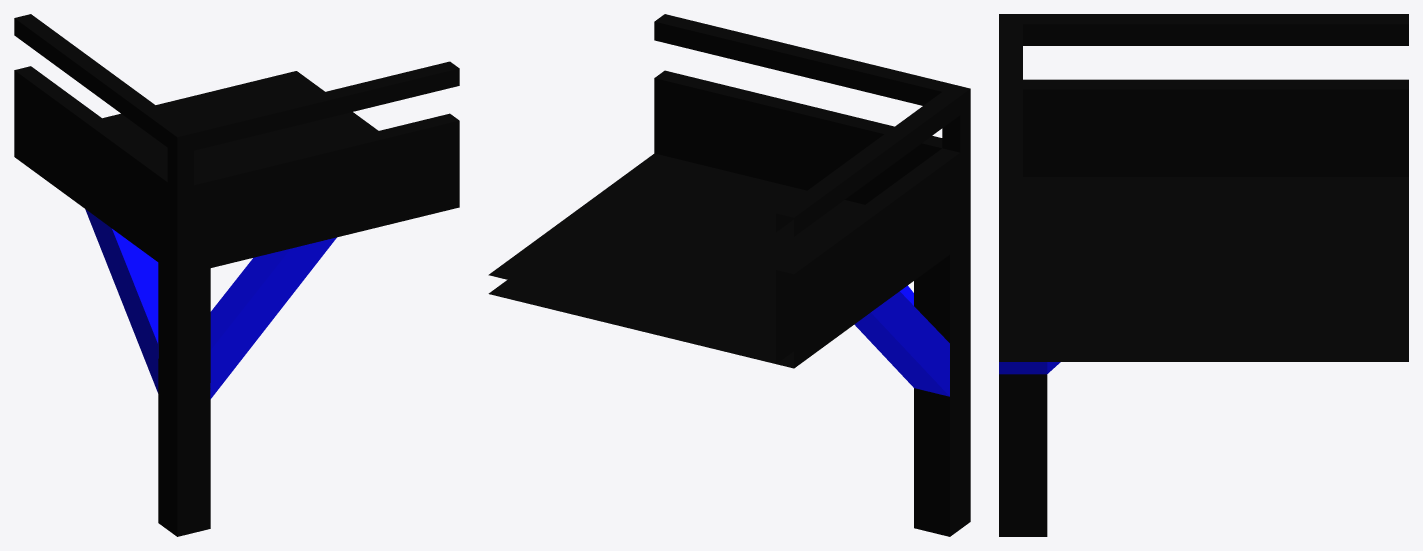
File: BigStrut_P_E_E_E_E_E_E_E_None.fbx
The picture shows the model from 3 angles, left to right: view 1: azimuth 30°, elevation 25°; view 2: azimuth 150°, elevation 25°; view 3: azimuth 270°, elevation 25°; orthographic projection. The views are drawn at different scales.
Visible parts, largest first — view 1: BigStrut_P_E_E_E_E_E_E_E_None; view 2: BigStrut_P_E_E_E_E_E_E_E_None; view 3: BigStrut_P_E_E_E_E_E_E_E_None.
Boxes of the visible parts, left/top/right/bottom form: BigStrut_P_E_E_E_E_E_E_E_None: left=14, top=14, right=459, bottom=536; BigStrut_P_E_E_E_E_E_E_E_None: left=488, top=14, right=970, bottom=536; BigStrut_P_E_E_E_E_E_E_E_None: left=999, top=14, right=1408, bottom=536.
Size of the model in its own units: 53.12 by 71.88 by 53.12.
